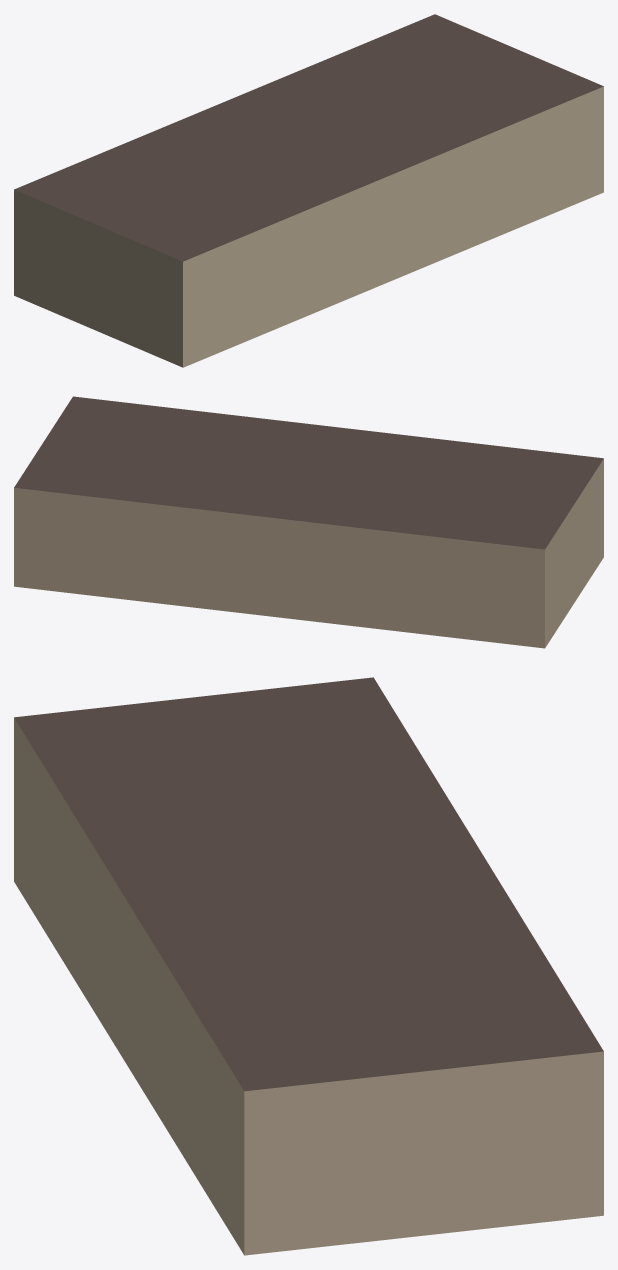
3 views of the same model, one above another, from view 1: azimuth 30°, elevation 25°; view 2: azimuth 150°, elevation 25°; view 3: azimuth 270°, elevation 25° (orthographic). The views are drawn at different scales.
Visible parts, largest first — view 1: HP-w859488639; view 2: HP-w859488639; view 3: HP-w859488639.
Part boxes in pixels (x1,y1,x2,y2): HP-w859488639: [14, 14, 603, 367]; HP-w859488639: [14, 396, 603, 648]; HP-w859488639: [14, 677, 603, 1255].
Size of the model in its own units: 48.65 by 9 by 29.3.
